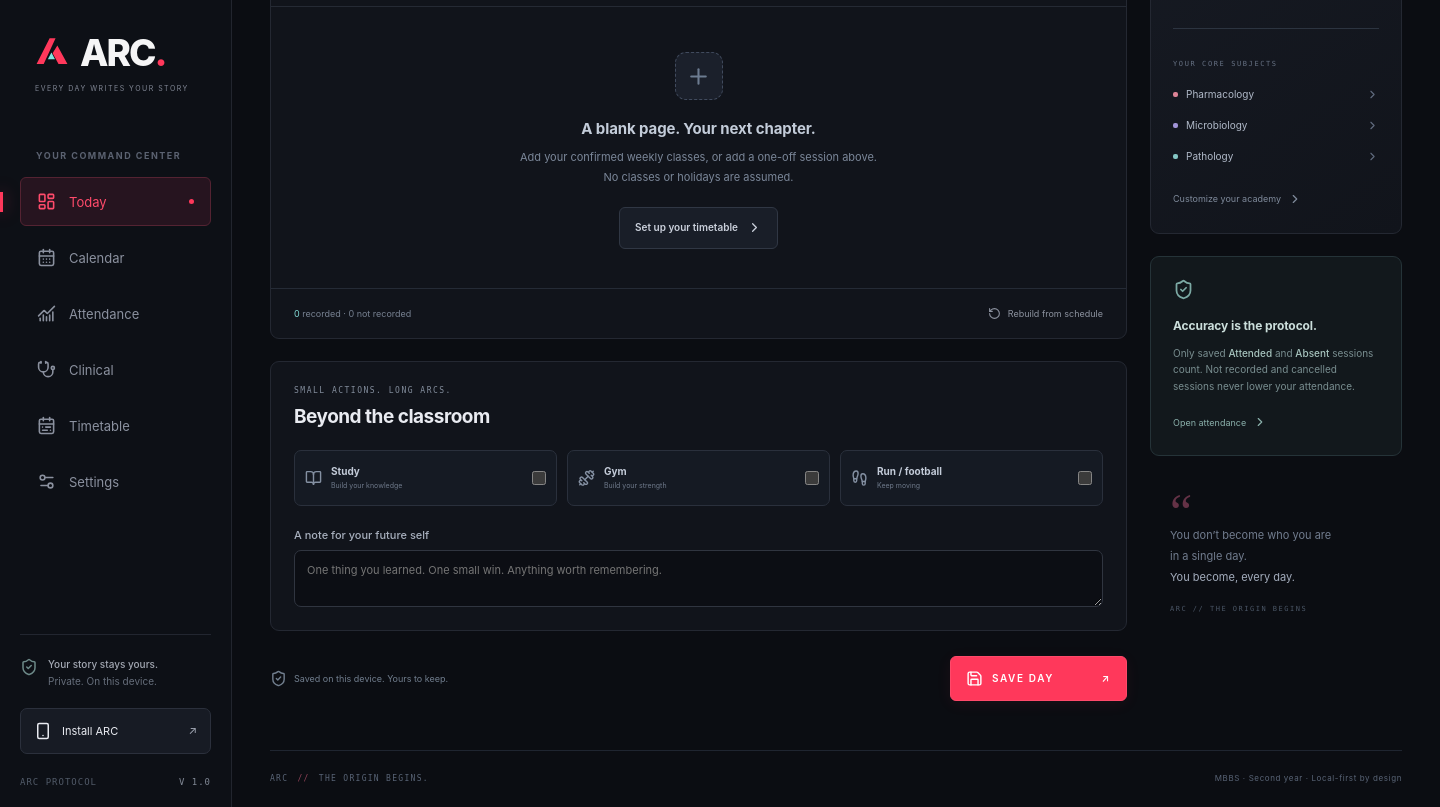
Academy user flows › continues daily logging when the device reports offline
(page scrolled)
Click the checkbox labelled "Gym Build your strength" at coordinates (812, 478), box [805,471,819,485]
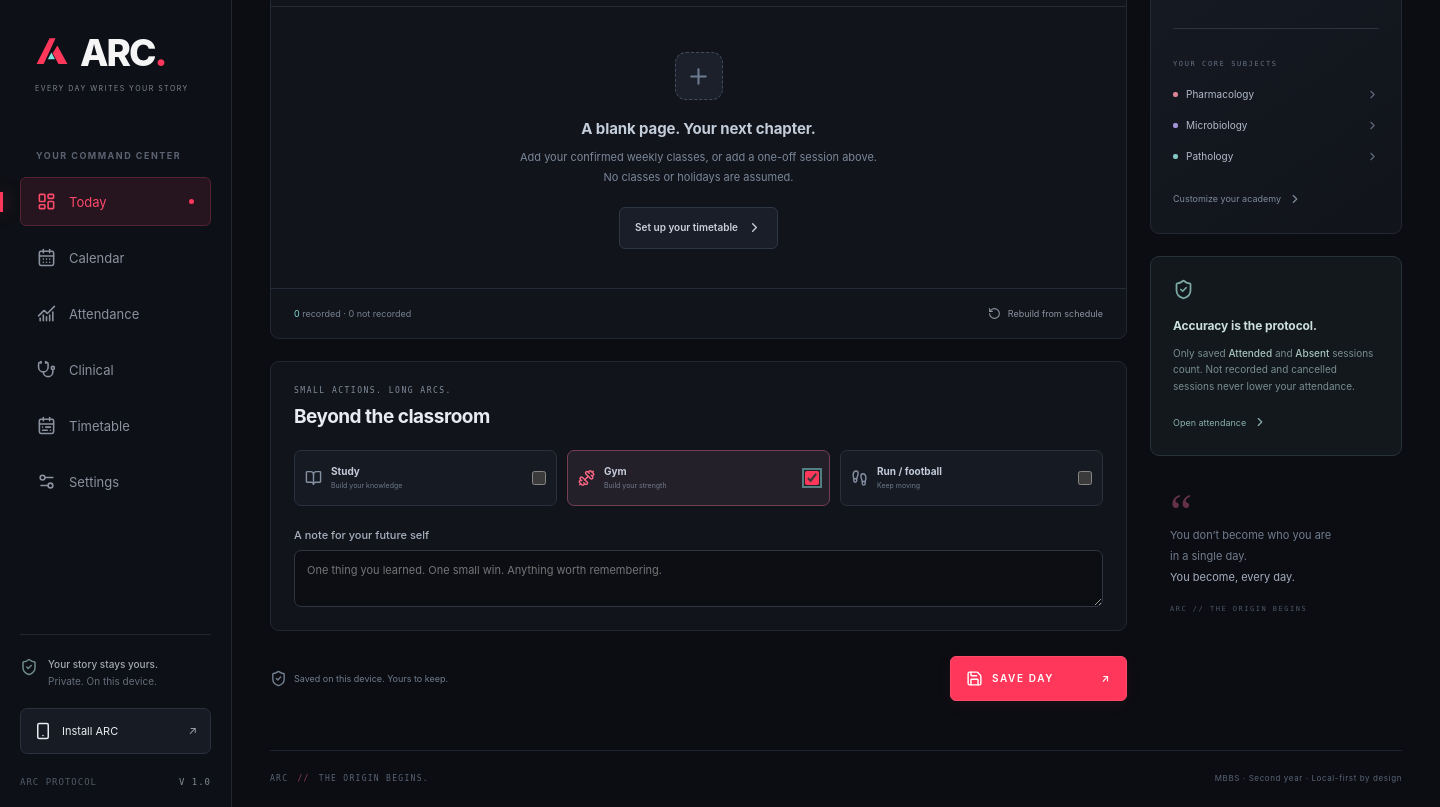
Click the button "SAVE DAY ↗" at coordinates (1038, 679), box [950,656,1127,701]
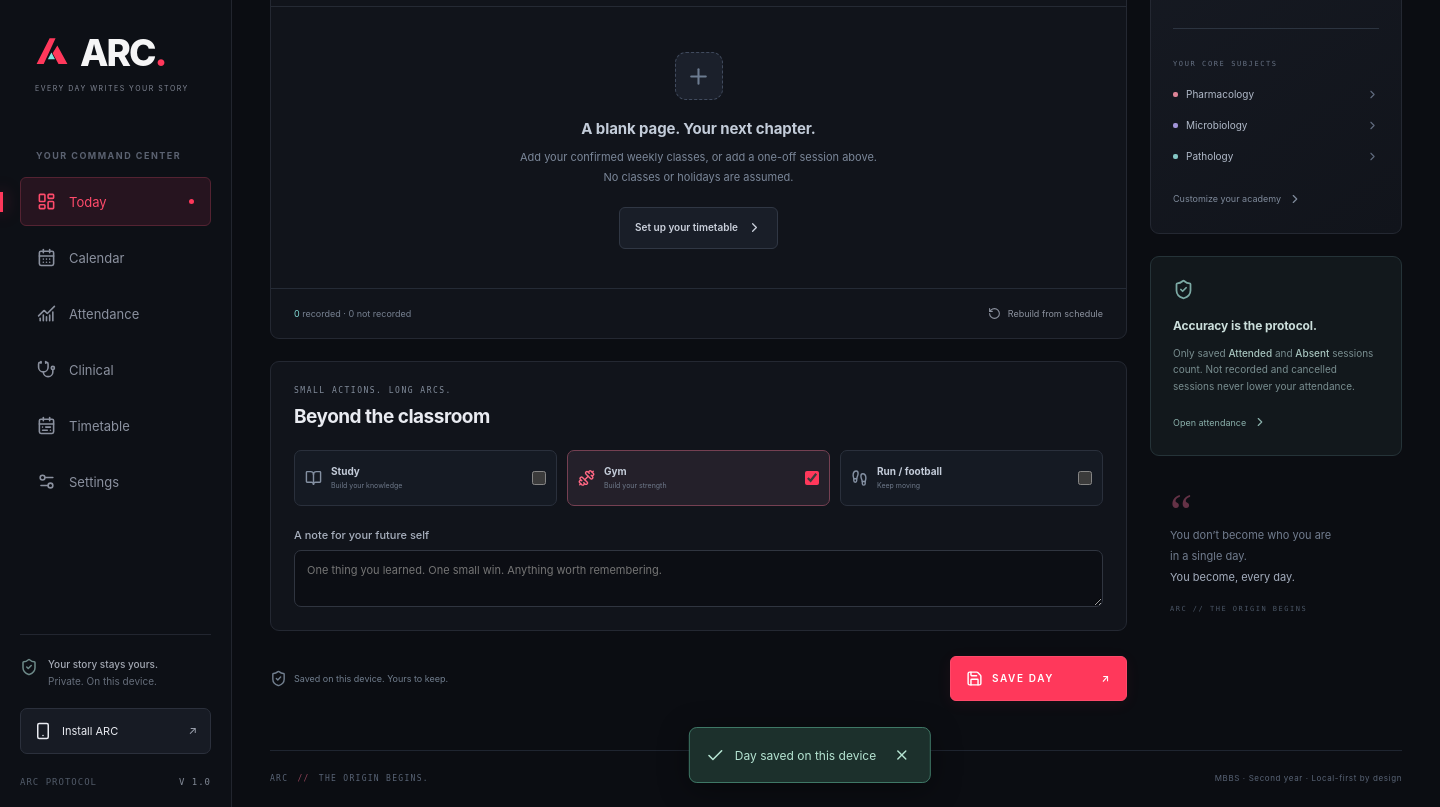
Check: the text "Day saved on this device" is shown, box [735,748,876,762]
